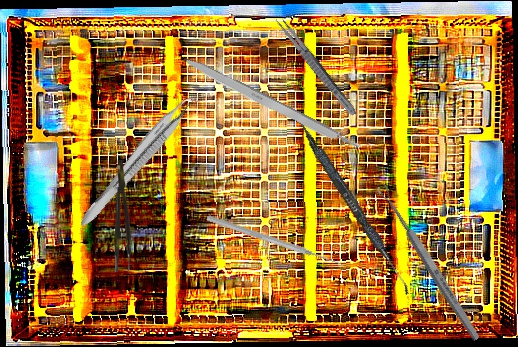Dressing Forceps: (272, 14, 360, 119)
Pusher: (205, 213, 346, 270)
Scalpel Handle: (178, 53, 364, 156)
Spatula Surgical: (285, 109, 418, 296)
Surgical Spoon: (375, 182, 483, 343)
Tissue Forceps: (76, 85, 204, 236), (114, 159, 133, 273)
